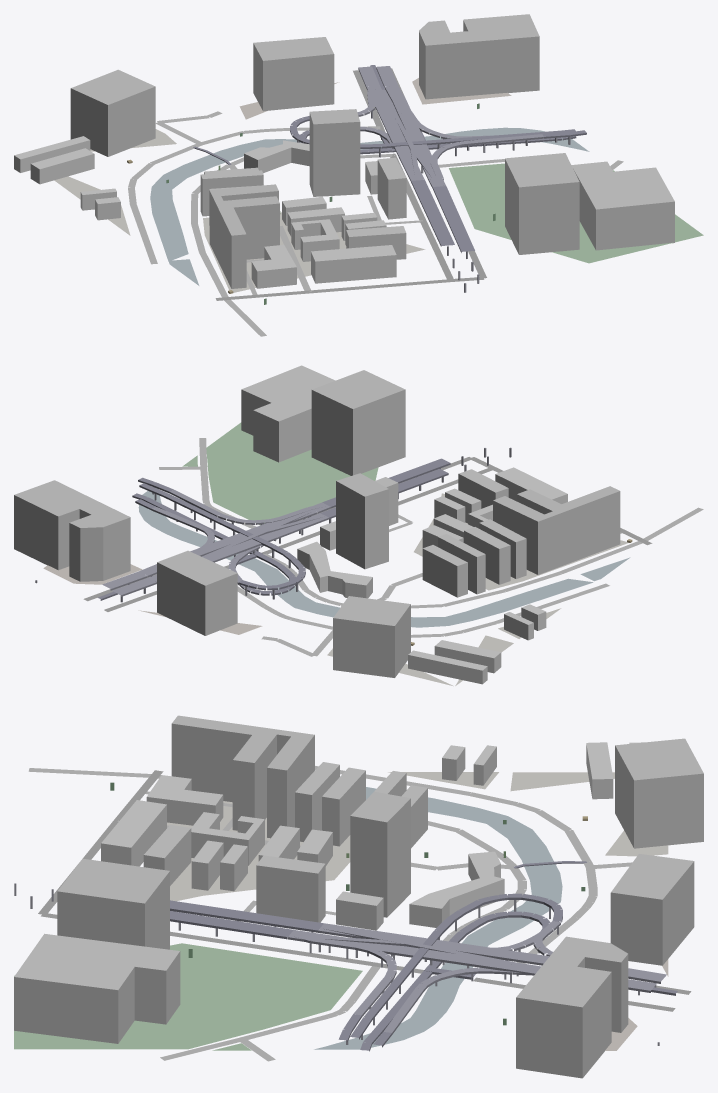
The picture shows the model from 3 angles, top to bottom: view 1: azimuth 30°, elevation 25°; view 2: azimuth 150°, elevation 25°; view 3: azimuth 270°, elevation 25°; orthographic projection. The views are drawn at different scales.
Size of the model in its own units: 570 by 82.11 by 527.
